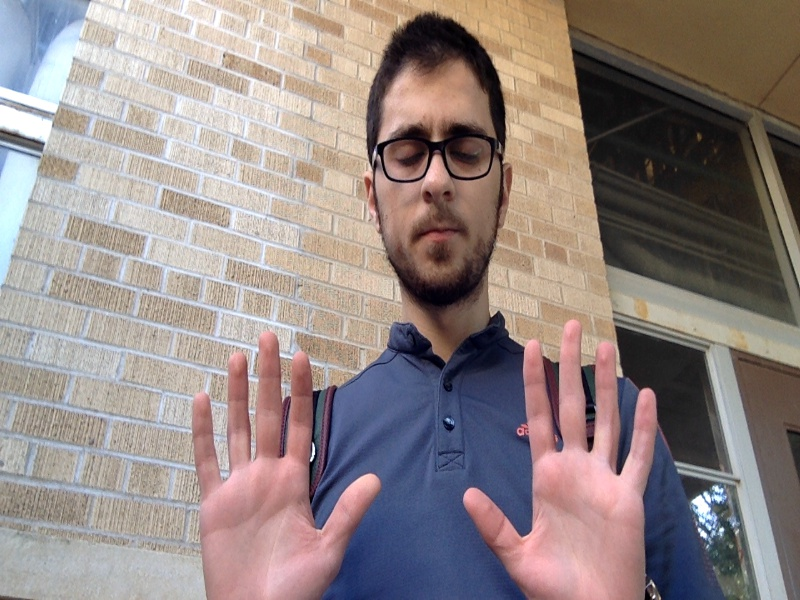5-hand: (463, 321, 656, 600), (191, 334, 378, 600)
